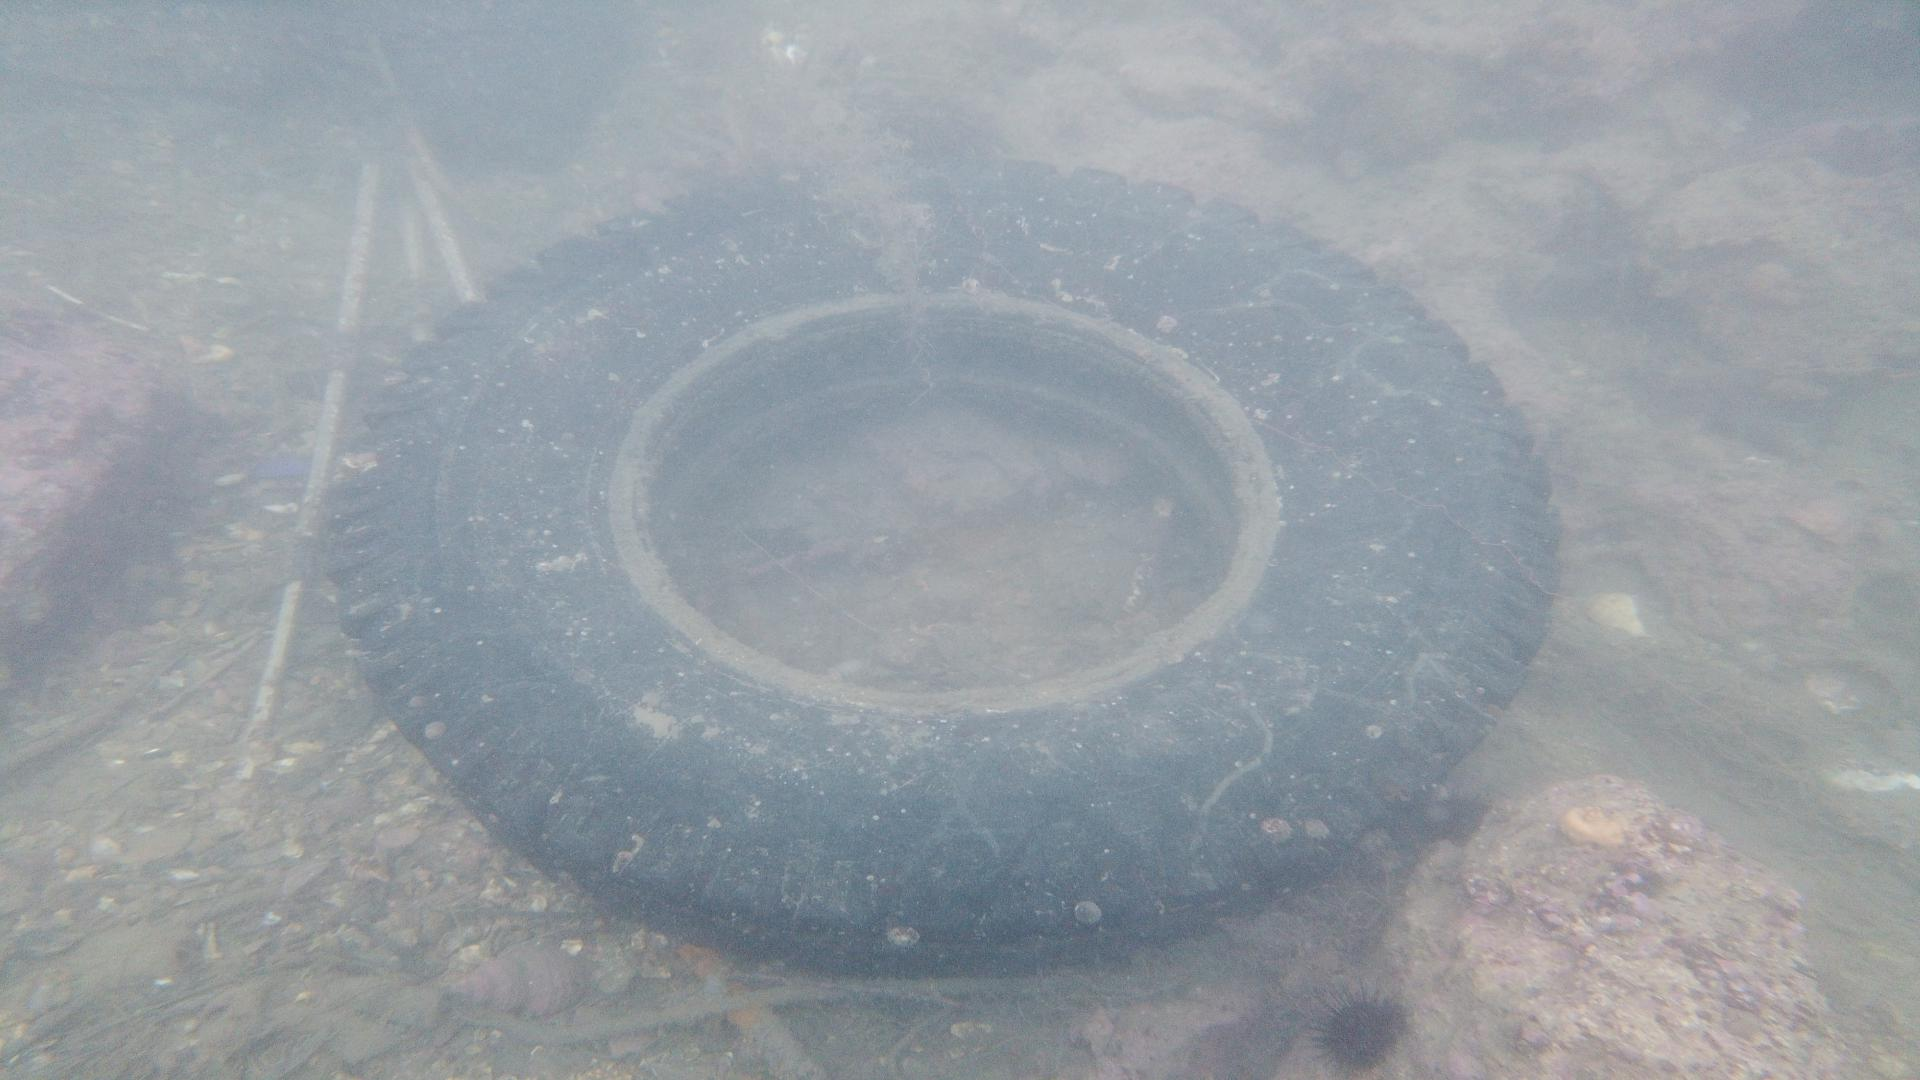tire: (323, 158, 1563, 978)
